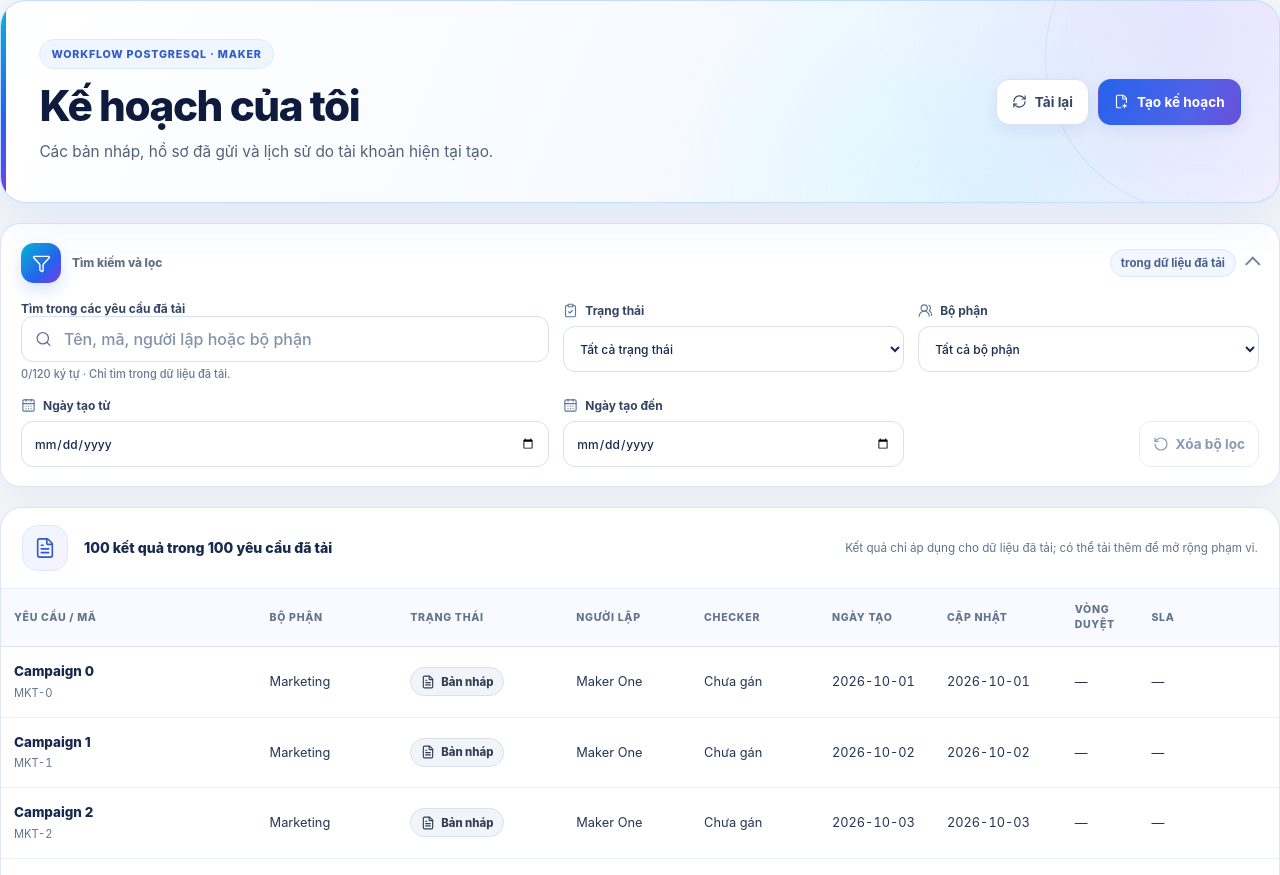
Scenario: keeps loaded rows and retries the same page after a temporary Maker list error
Expected: the link with aria-label "Campaign 0 (MKT-0)" is shown, [14, 663, 94, 700]
Click the button "Tải lại". click: (1042, 102)
box: [996, 79, 1089, 125]
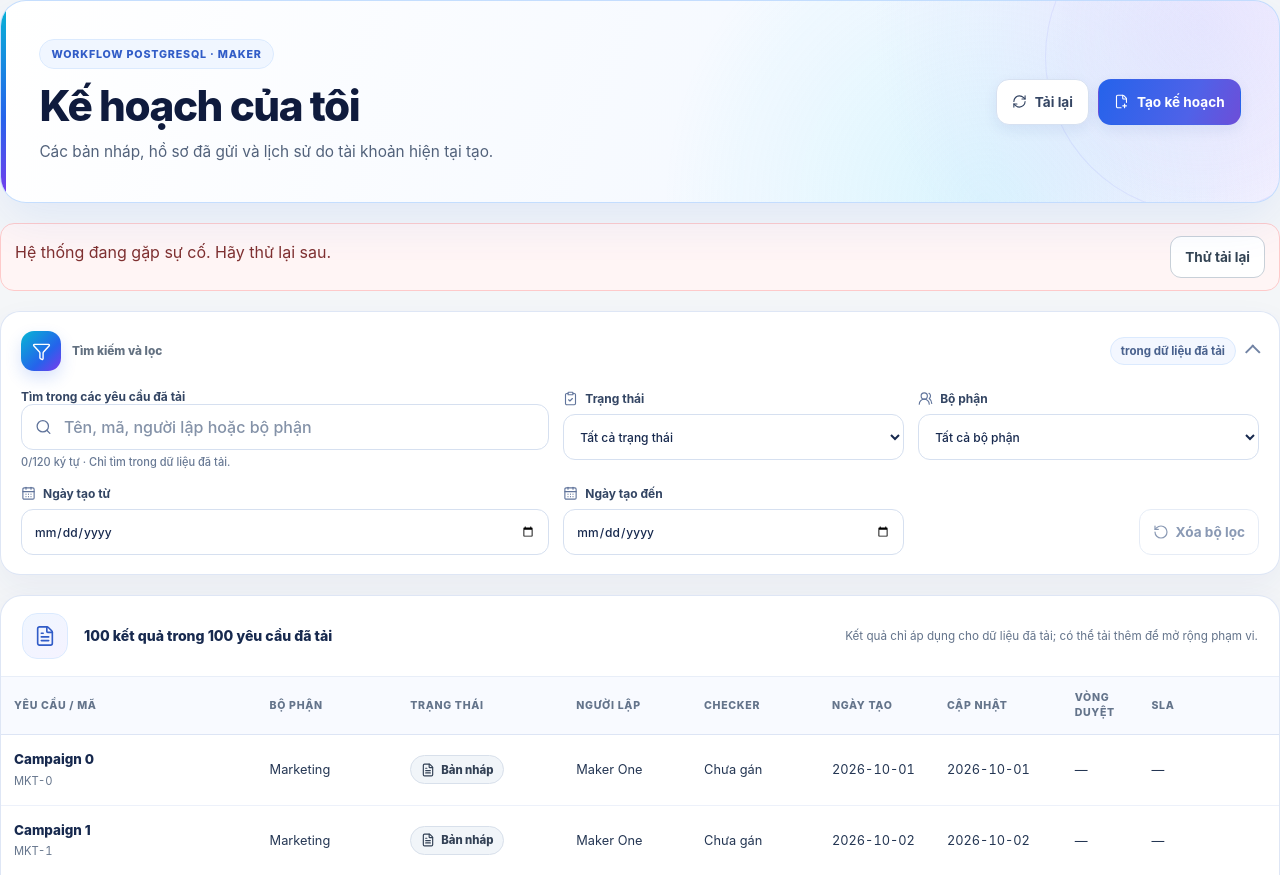
Expected: the link with aria-label "Campaign 0 (MKT-0)" is shown, [14, 751, 94, 788]
Expected: the message shows "Hệ thống đang gặp sự cố", [15, 242, 331, 262]
Click the button "Thử tải lại". click: (1218, 257)
box: [1170, 236, 1265, 278]
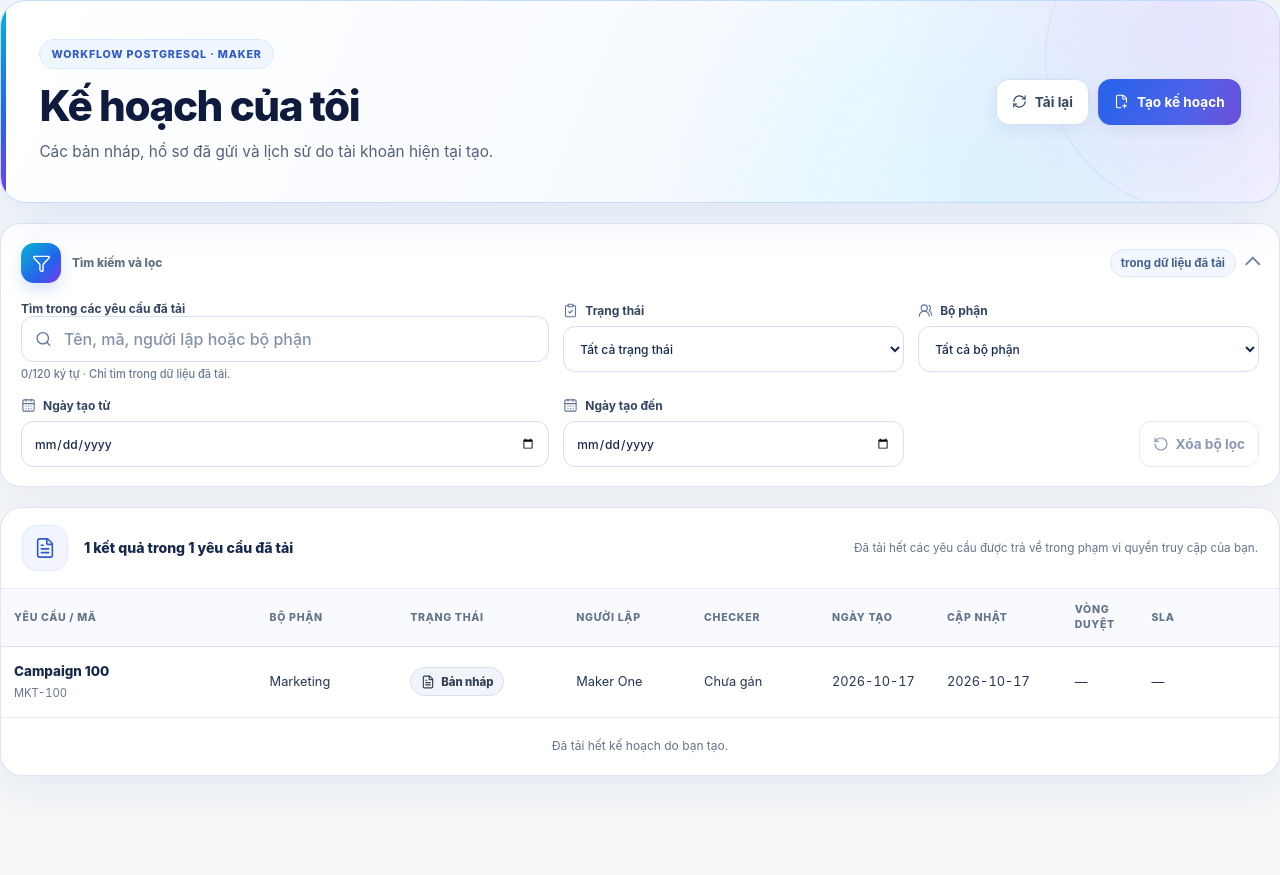
Expected: the link with aria-label "Campaign 100 (MKT-100)" is shown, [14, 663, 109, 700]
